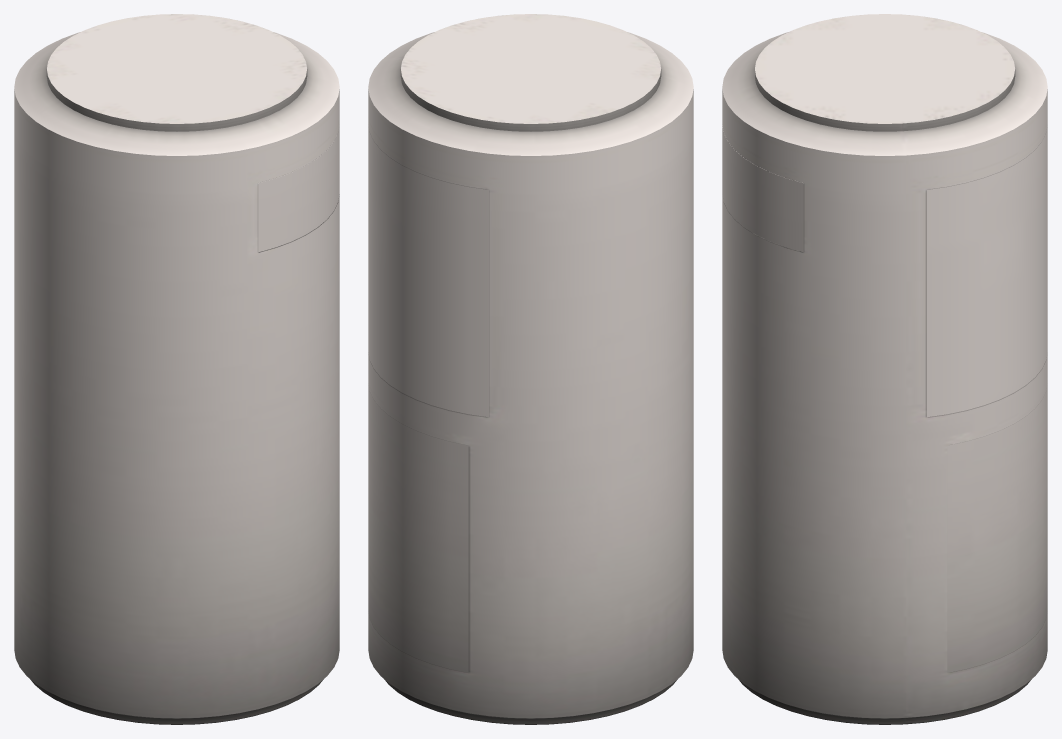
The model's file is payload_g_15.dae.
The picture shows the model from 3 angles, left to right: view 1: azimuth 30°, elevation 25°; view 2: azimuth 150°, elevation 25°; view 3: azimuth 270°, elevation 25°; orthographic projection.
Parts seen in each view (by area): view 1: skin, PSU_door; view 2: skin, door_coolant, sensor_door; view 3: skin, door_coolant, sensor_door, PSU_door.
Boxes of the visible parts, x1,y1,x2,y2 form: skin: (14, 14, 339, 724); PSU_door: (258, 125, 339, 252); skin: (368, 14, 693, 724); door_coolant: (368, 125, 488, 417); sensor_door: (368, 384, 468, 672); skin: (722, 14, 1047, 724); door_coolant: (927, 125, 1047, 417); sensor_door: (947, 384, 1047, 672); PSU_door: (722, 125, 803, 252).
Bounding box in the file's own units: 0.54 × 1.09 × 0.5401.
Materials: 9 (5 with a texture image).
